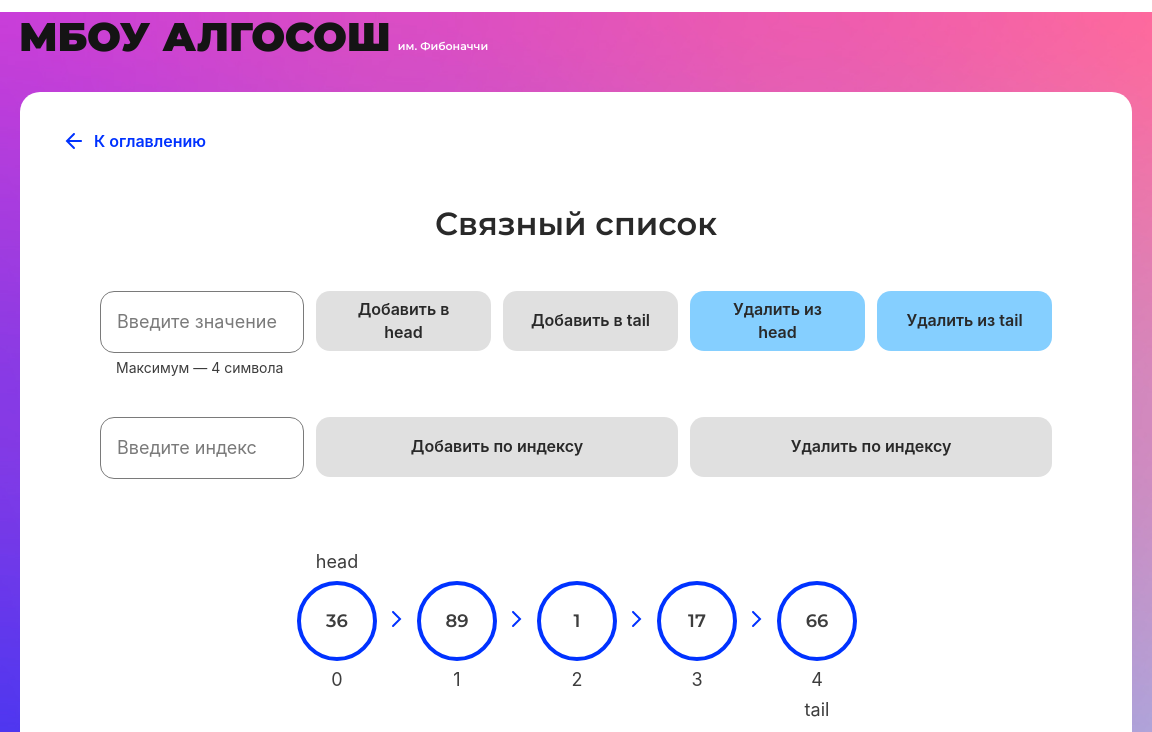
Test: Страница Связный список отображается корректно › Элемент удаляется по индексу
Step 1. Type "2" into the number field with test id "indexinput" → (202,448), box x1=100 y1=417 x2=304 y2=479
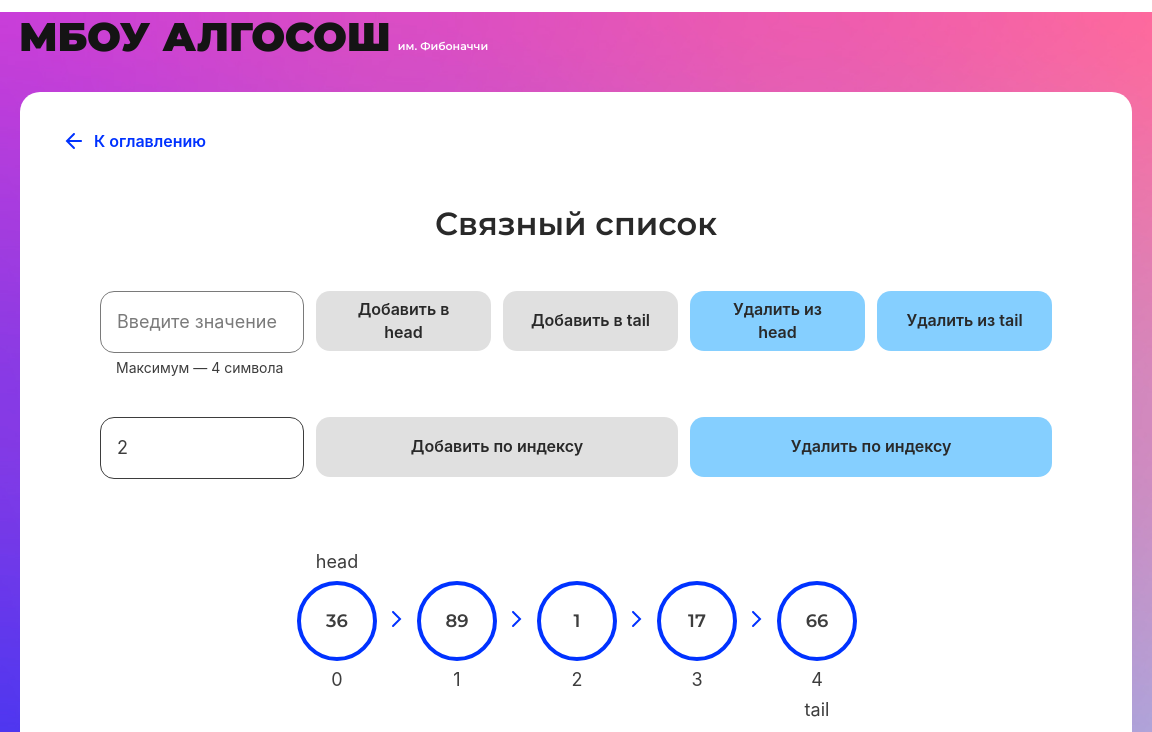
Step 2. Click the button with test id "deletebyindexbutton" → (871,447), box x1=690 y1=417 x2=1052 y2=477
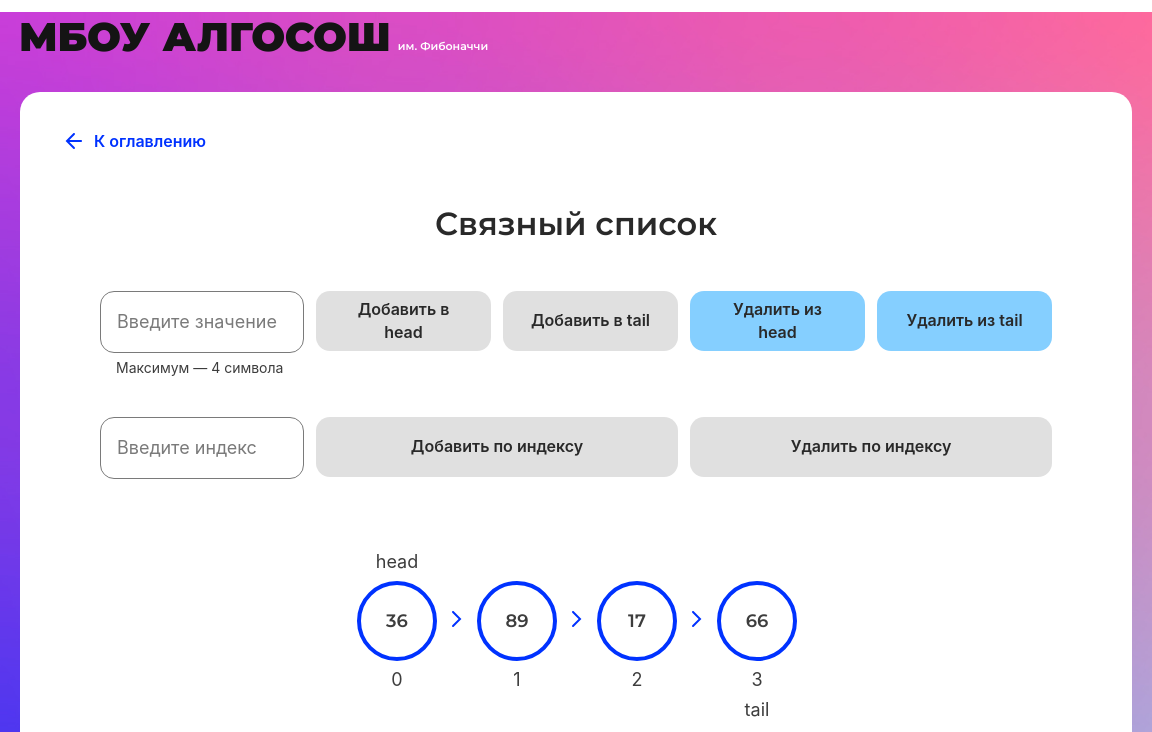
expect the number of elements with test id "circle" is 4: met, box x1=357 y1=581 x2=437 y2=661; x1=477 y1=581 x2=557 y2=661; x1=597 y1=581 x2=677 y2=661; x1=717 y1=581 x2=797 y2=661
expect the number of elements with test id "arrow" is 3: met, box x1=442 y1=607 x2=466 y2=635; x1=562 y1=607 x2=586 y2=635; x1=682 y1=607 x2=706 y2=635
